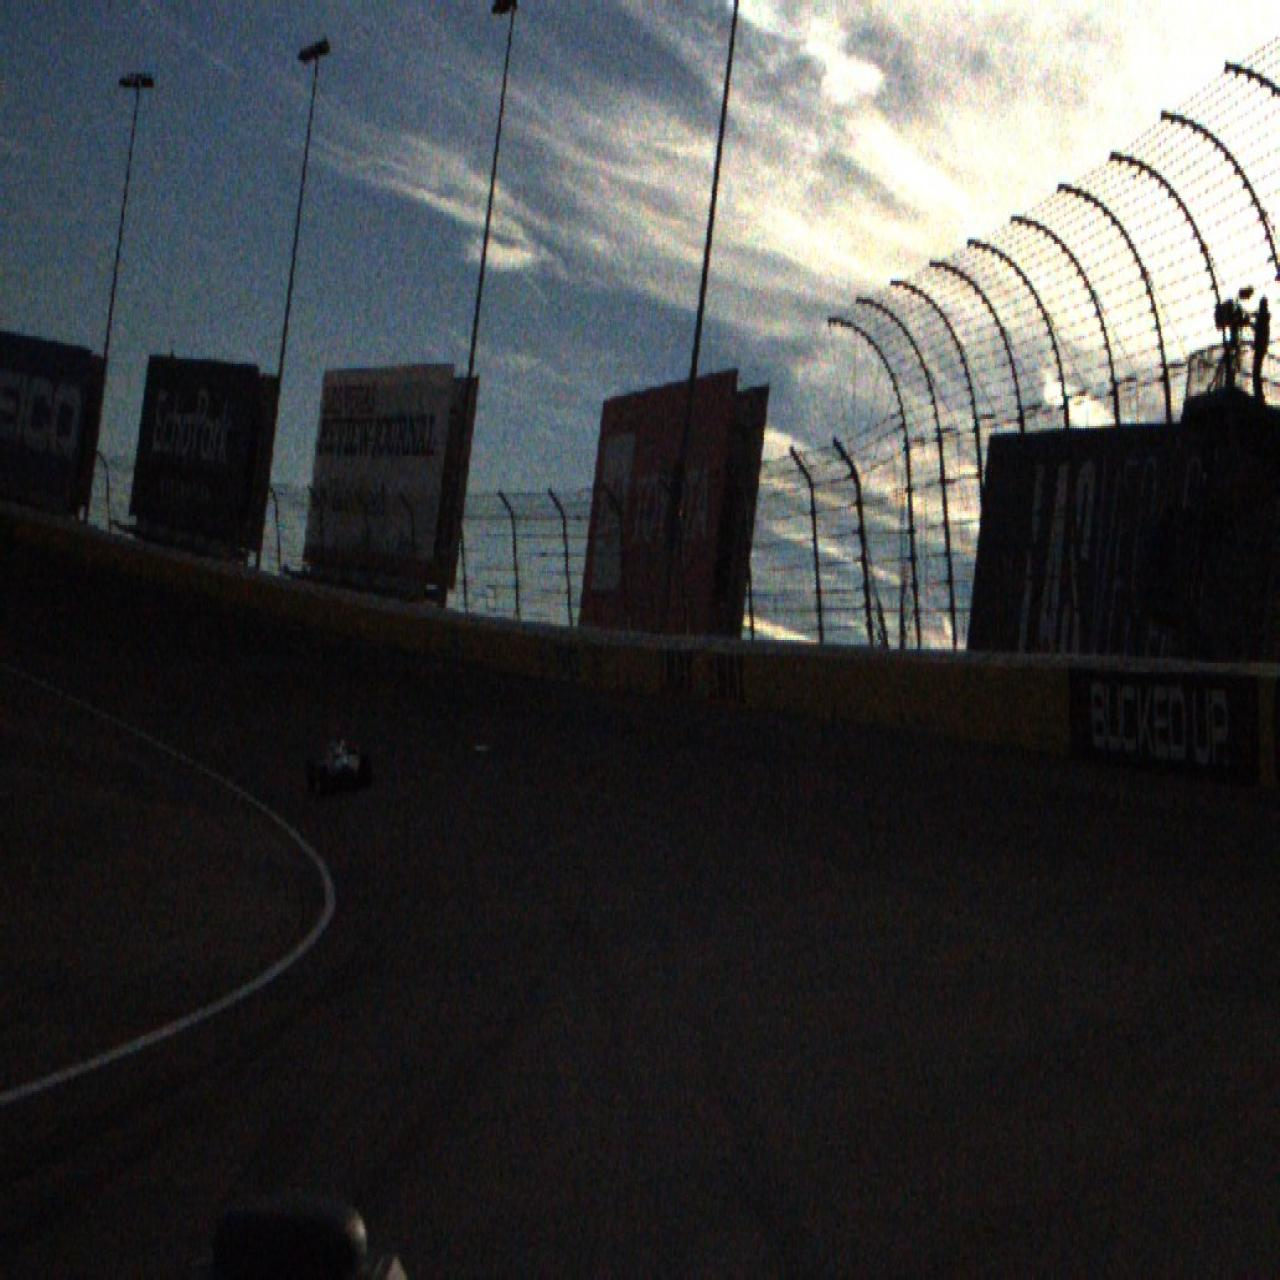AV: (308, 727, 374, 799)
Wheel: (360, 755, 374, 788)
